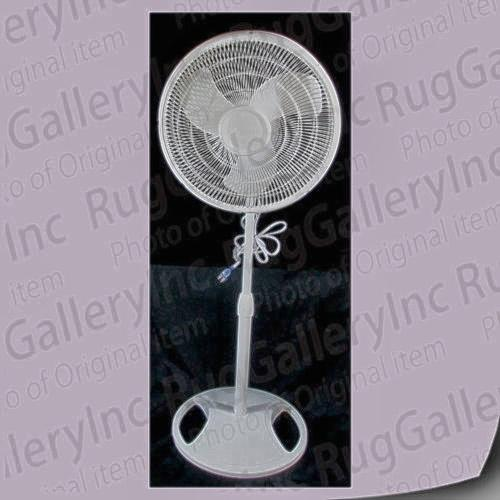fan: (148, 41, 351, 481)
